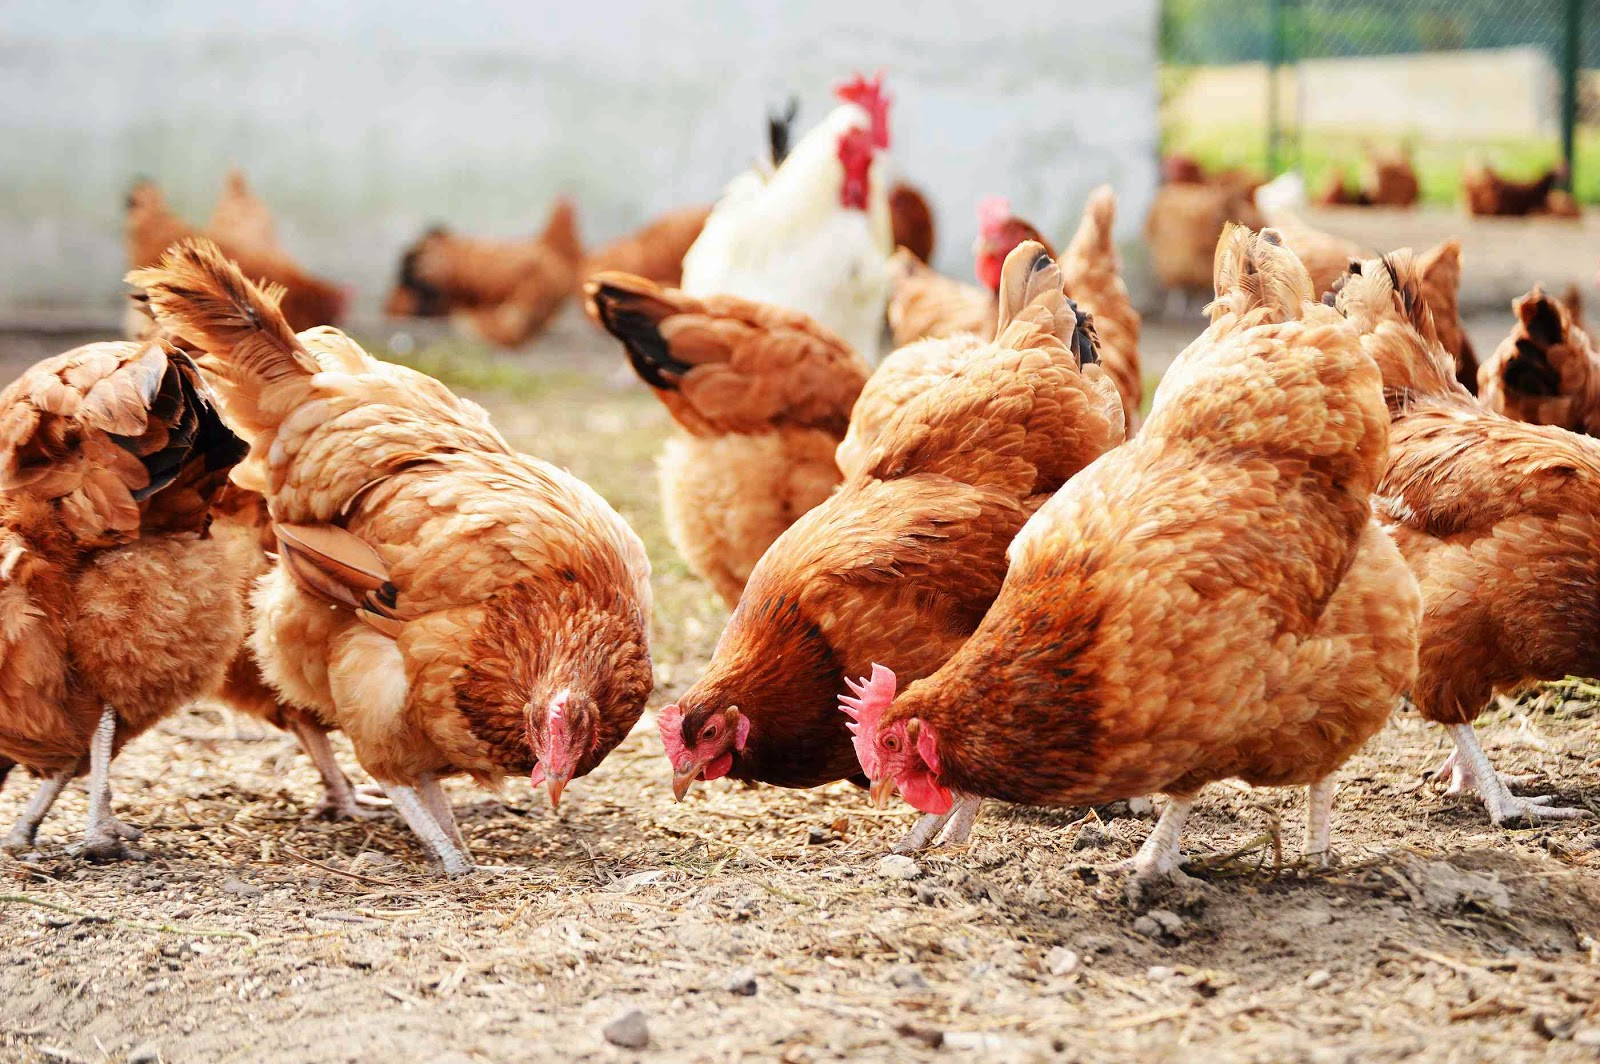Healthy: (834, 245, 1440, 942), (110, 213, 662, 886), (643, 321, 1122, 866)
